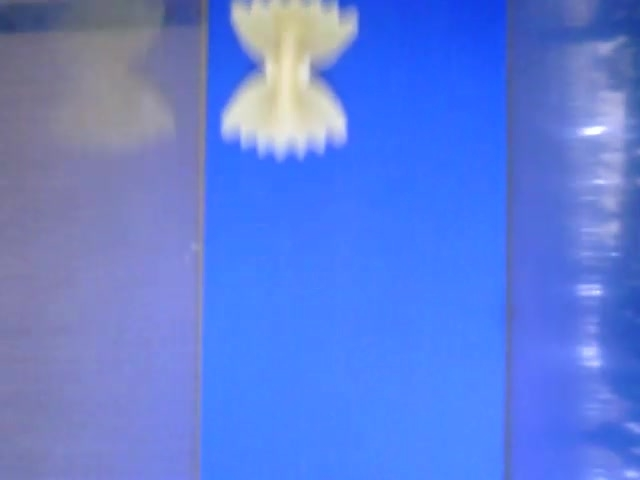farfalle: (220, 1, 363, 160)
